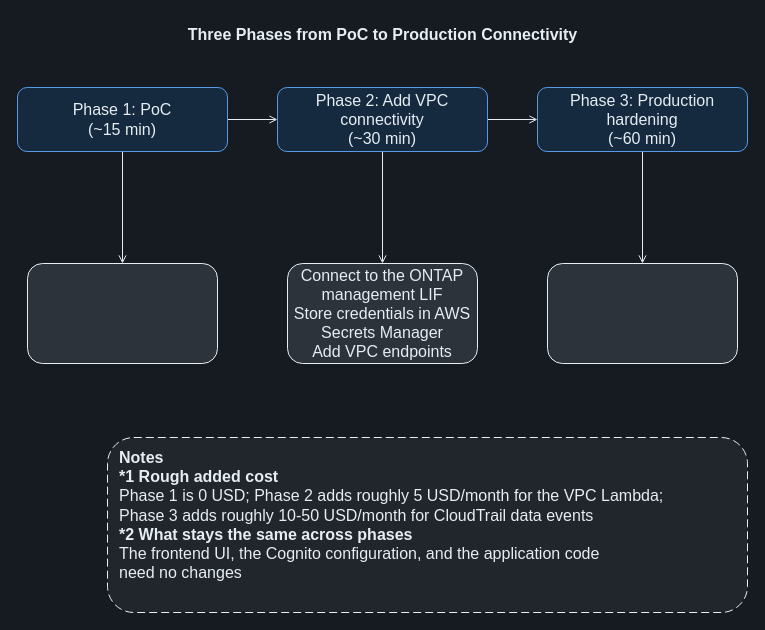
Some shapes in this 765 by 630 pixel diagram are drawn without their labels. The shapes that lost their labels are listed below. From the top down, each one's box as (x1, y1, x2, y2) in pixels, then its label:
(26, 262, 218, 364): DemoMode=true Verify against an S3 bucket Auth: Amazon Cognito
(546, 262, 738, 364): Least-privilege IAM Require MFA / add AWS WAF Enable audit logs
